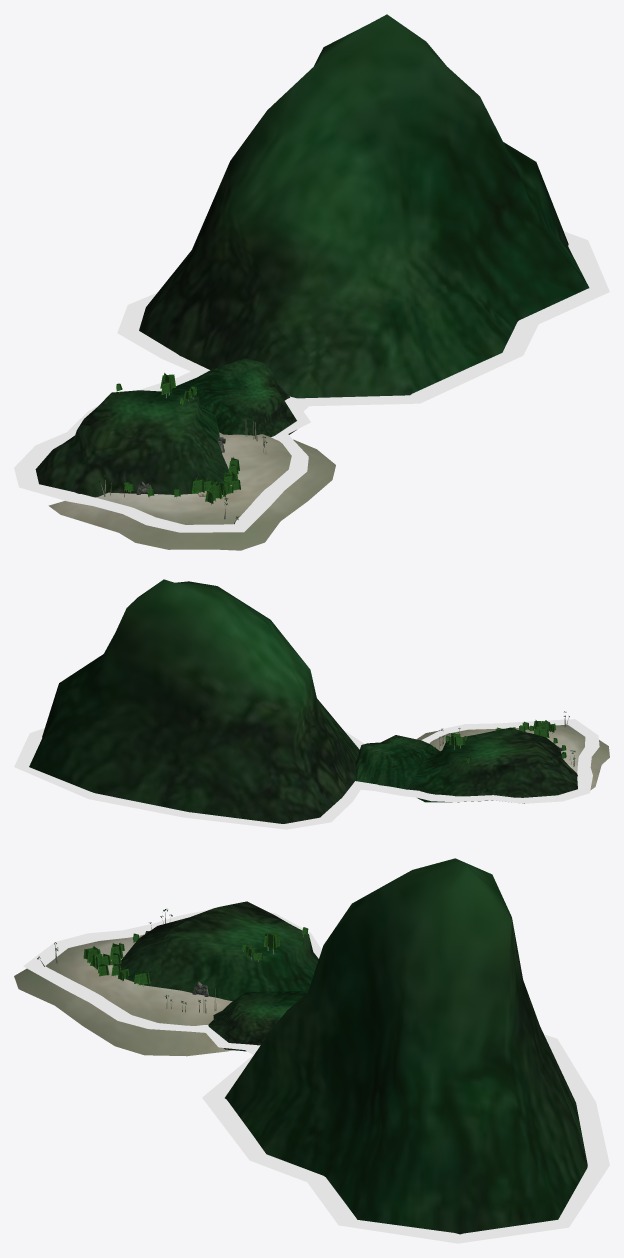
File: pir_m_are_isl_tormenta_dock_lod.fbx
3 renders of one model, top to bottom at view 1: azimuth 30°, elevation 25°; view 2: azimuth 150°, elevation 25°; view 3: azimuth 270°, elevation 25°, orthographic. The views are drawn at different scales.
Parts seen in each view (by area): view 1: terrain_mesh1, terrain_mesh2, mesh_tide3, ground, terrain_mesh3; view 2: terrain_mesh1, terrain_mesh2, mesh_tide3, terrain_mesh3, ground; view 3: terrain_mesh1, mesh_tide3, terrain_mesh2, ground, terrain_mesh3.
Part boxes in pixels (bbox=[...]): terrain_mesh1: bbox=[139, 14, 589, 398]; terrain_mesh2: bbox=[35, 390, 229, 497]; mesh_tide3: bbox=[14, 231, 609, 532]; ground: bbox=[48, 432, 335, 550]; terrain_mesh3: bbox=[171, 358, 296, 436]; terrain_mesh1: bbox=[29, 579, 359, 823]; terrain_mesh2: bbox=[407, 727, 577, 803]; mesh_tide3: bbox=[14, 719, 599, 829]; terrain_mesh3: bbox=[355, 735, 439, 789]; ground: bbox=[417, 724, 609, 790]; terrain_mesh1: bbox=[225, 858, 587, 1234]; mesh_tide3: bbox=[23, 909, 609, 1243]; terrain_mesh2: bbox=[118, 901, 318, 1001]; ground: bbox=[14, 934, 232, 1056]; terrain_mesh3: bbox=[208, 991, 307, 1051].
Size of the model in its own units: 261209 by 103729 by 194338.
Materials: 3 (3 with a texture image).
